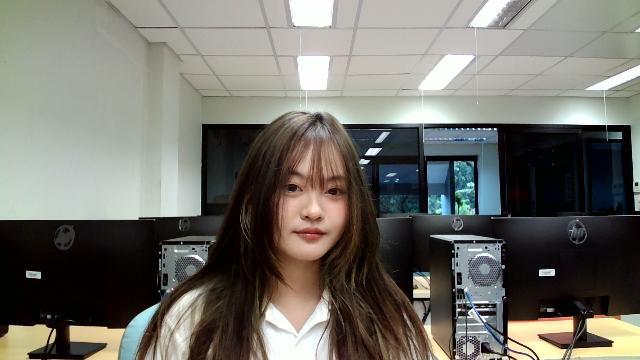fokus: (267, 137, 351, 262)
